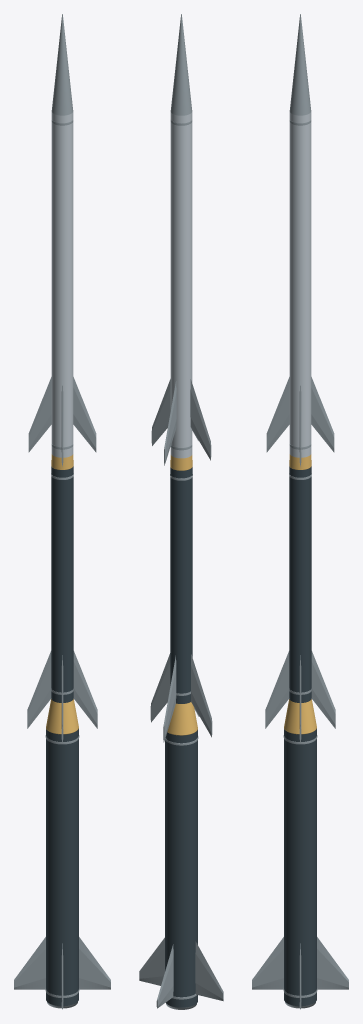
The model's file is rocket.glb.
3 views of the same model, side by side, from view 1: azimuth 90°, elevation 25°; view 2: azimuth 150°, elevation 25°; view 3: azimuth 270°, elevation 25° (orthographic).
Parts seen in each view (by area): view 1: Stage 1 airframe, Stage 3 airframe, Stage 2 airframe, Conical nose, Stage 1 fin 2, Stage 1 fin 4, Interstage transition.001, Stage 2 fin 2, Stage 2 fin 4, Stage 3 fin 2, Stage 3 fin 4, Interstage transition; view 2: Stage 1 airframe, Stage 3 airframe, Stage 2 airframe, Conical nose, Stage 1 fin 3, Interstage transition.001, Stage 3 fin 3, Stage 2 fin 3, Stage 1 fin 1, Stage 2 fin 1, Stage 3 fin 1, Stage 1 fin 2 (+3 smaller); view 3: Stage 1 airframe, Stage 3 airframe, Stage 2 airframe, Conical nose, Stage 1 fin 2, Stage 1 fin 4, Interstage transition.001, Stage 2 fin 2, Stage 2 fin 4, Stage 3 fin 2, Stage 3 fin 4, Interstage transition.
Boxes of the visible parts, x1,y1,x2,y2 form: Stage 1 airframe: (46,728,78,1006); Stage 3 airframe: (51,112,73,457); Stage 2 airframe: (51,466,73,702); Conical nose: (51,14,73,115); Stage 1 fin 2: (14,937,45,989); Stage 1 fin 4: (79,937,110,989); Interstage transition.001: (46,699,78,734); Stage 2 fin 2: (27,651,51,728); Stage 2 fin 4: (73,651,97,728); Stage 3 fin 2: (28,377,51,452); Stage 3 fin 4: (73,377,96,452); Interstage transition: (51,454,73,469); Stage 1 airframe: (165,730,197,1007); Stage 3 airframe: (170,112,192,458); Stage 2 airframe: (170,467,192,703); Conical nose: (170,14,192,115); Stage 1 fin 3: (195,941,223,1001); Interstage transition.001: (167,702,197,735); Stage 3 fin 3: (190,379,211,460); Stage 2 fin 3: (191,654,212,737); Stage 1 fin 1: (139,937,164,985); Stage 2 fin 1: (150,653,170,722); Stage 3 fin 1: (151,379,170,445); Stage 1 fin 2: (156,944,173,1008); Stage 1 airframe: (284,728,316,1006); Stage 3 airframe: (289,112,311,457); Stage 2 airframe: (289,466,311,702); Conical nose: (289,14,311,115); Stage 1 fin 2: (317,937,348,989); Stage 1 fin 4: (252,937,283,989); Interstage transition.001: (284,699,316,734); Stage 2 fin 2: (311,651,335,728); Stage 2 fin 4: (265,651,289,728); Stage 3 fin 2: (311,377,334,452); Stage 3 fin 4: (266,377,289,452); Interstage transition: (289,454,311,469).
Size of the model in its own units: 0.4592 by 5.19 by 0.4592.
